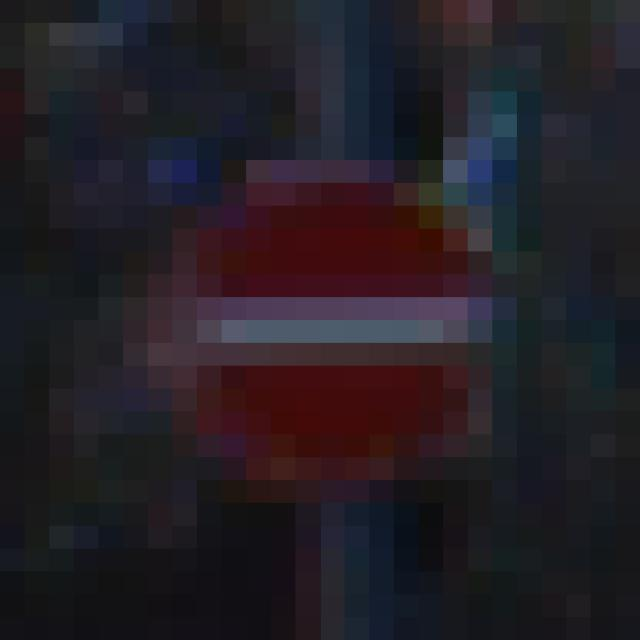No Entry: (124, 138, 518, 527)
